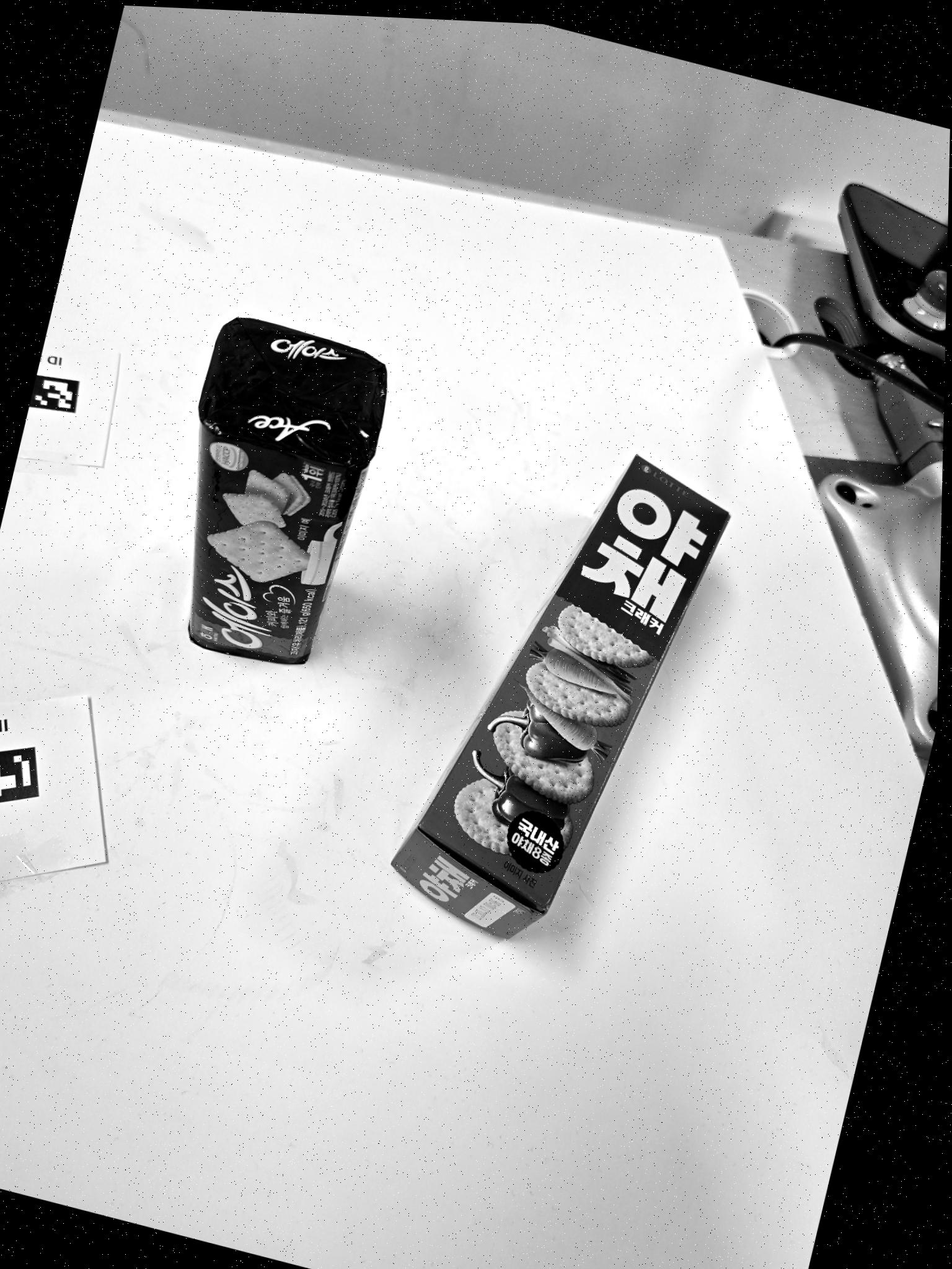cracker_ace: (189, 318, 386, 663)
cracker_vege: (393, 456, 729, 937)
